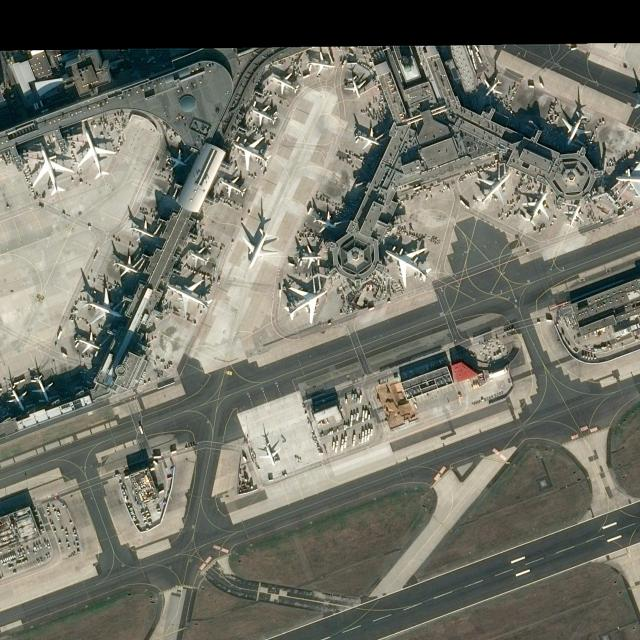aircraft: (29, 143, 72, 196), (384, 245, 430, 287), (76, 129, 112, 177), (282, 286, 328, 323), (166, 278, 208, 316), (475, 167, 512, 206), (240, 228, 276, 268), (83, 288, 122, 324), (232, 136, 268, 168), (559, 110, 590, 144), (521, 189, 549, 224), (269, 70, 298, 96), (304, 50, 335, 74), (219, 174, 247, 197), (31, 373, 54, 400), (112, 256, 140, 278), (249, 103, 276, 125), (75, 332, 102, 354), (297, 245, 323, 267), (130, 219, 157, 240), (311, 212, 339, 232), (343, 75, 367, 98), (356, 126, 380, 147), (562, 202, 582, 227), (6, 386, 24, 412), (166, 150, 189, 170), (483, 74, 502, 95)
